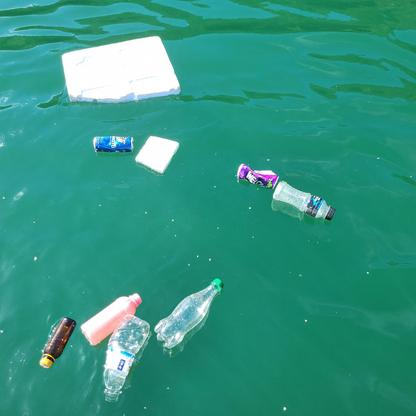can: (237, 162, 279, 190), (93, 134, 134, 153)
foam: (62, 35, 180, 103), (136, 132, 178, 175)
plastic bottle: (153, 278, 224, 348), (101, 315, 149, 401), (78, 292, 144, 345), (273, 181, 335, 221)
